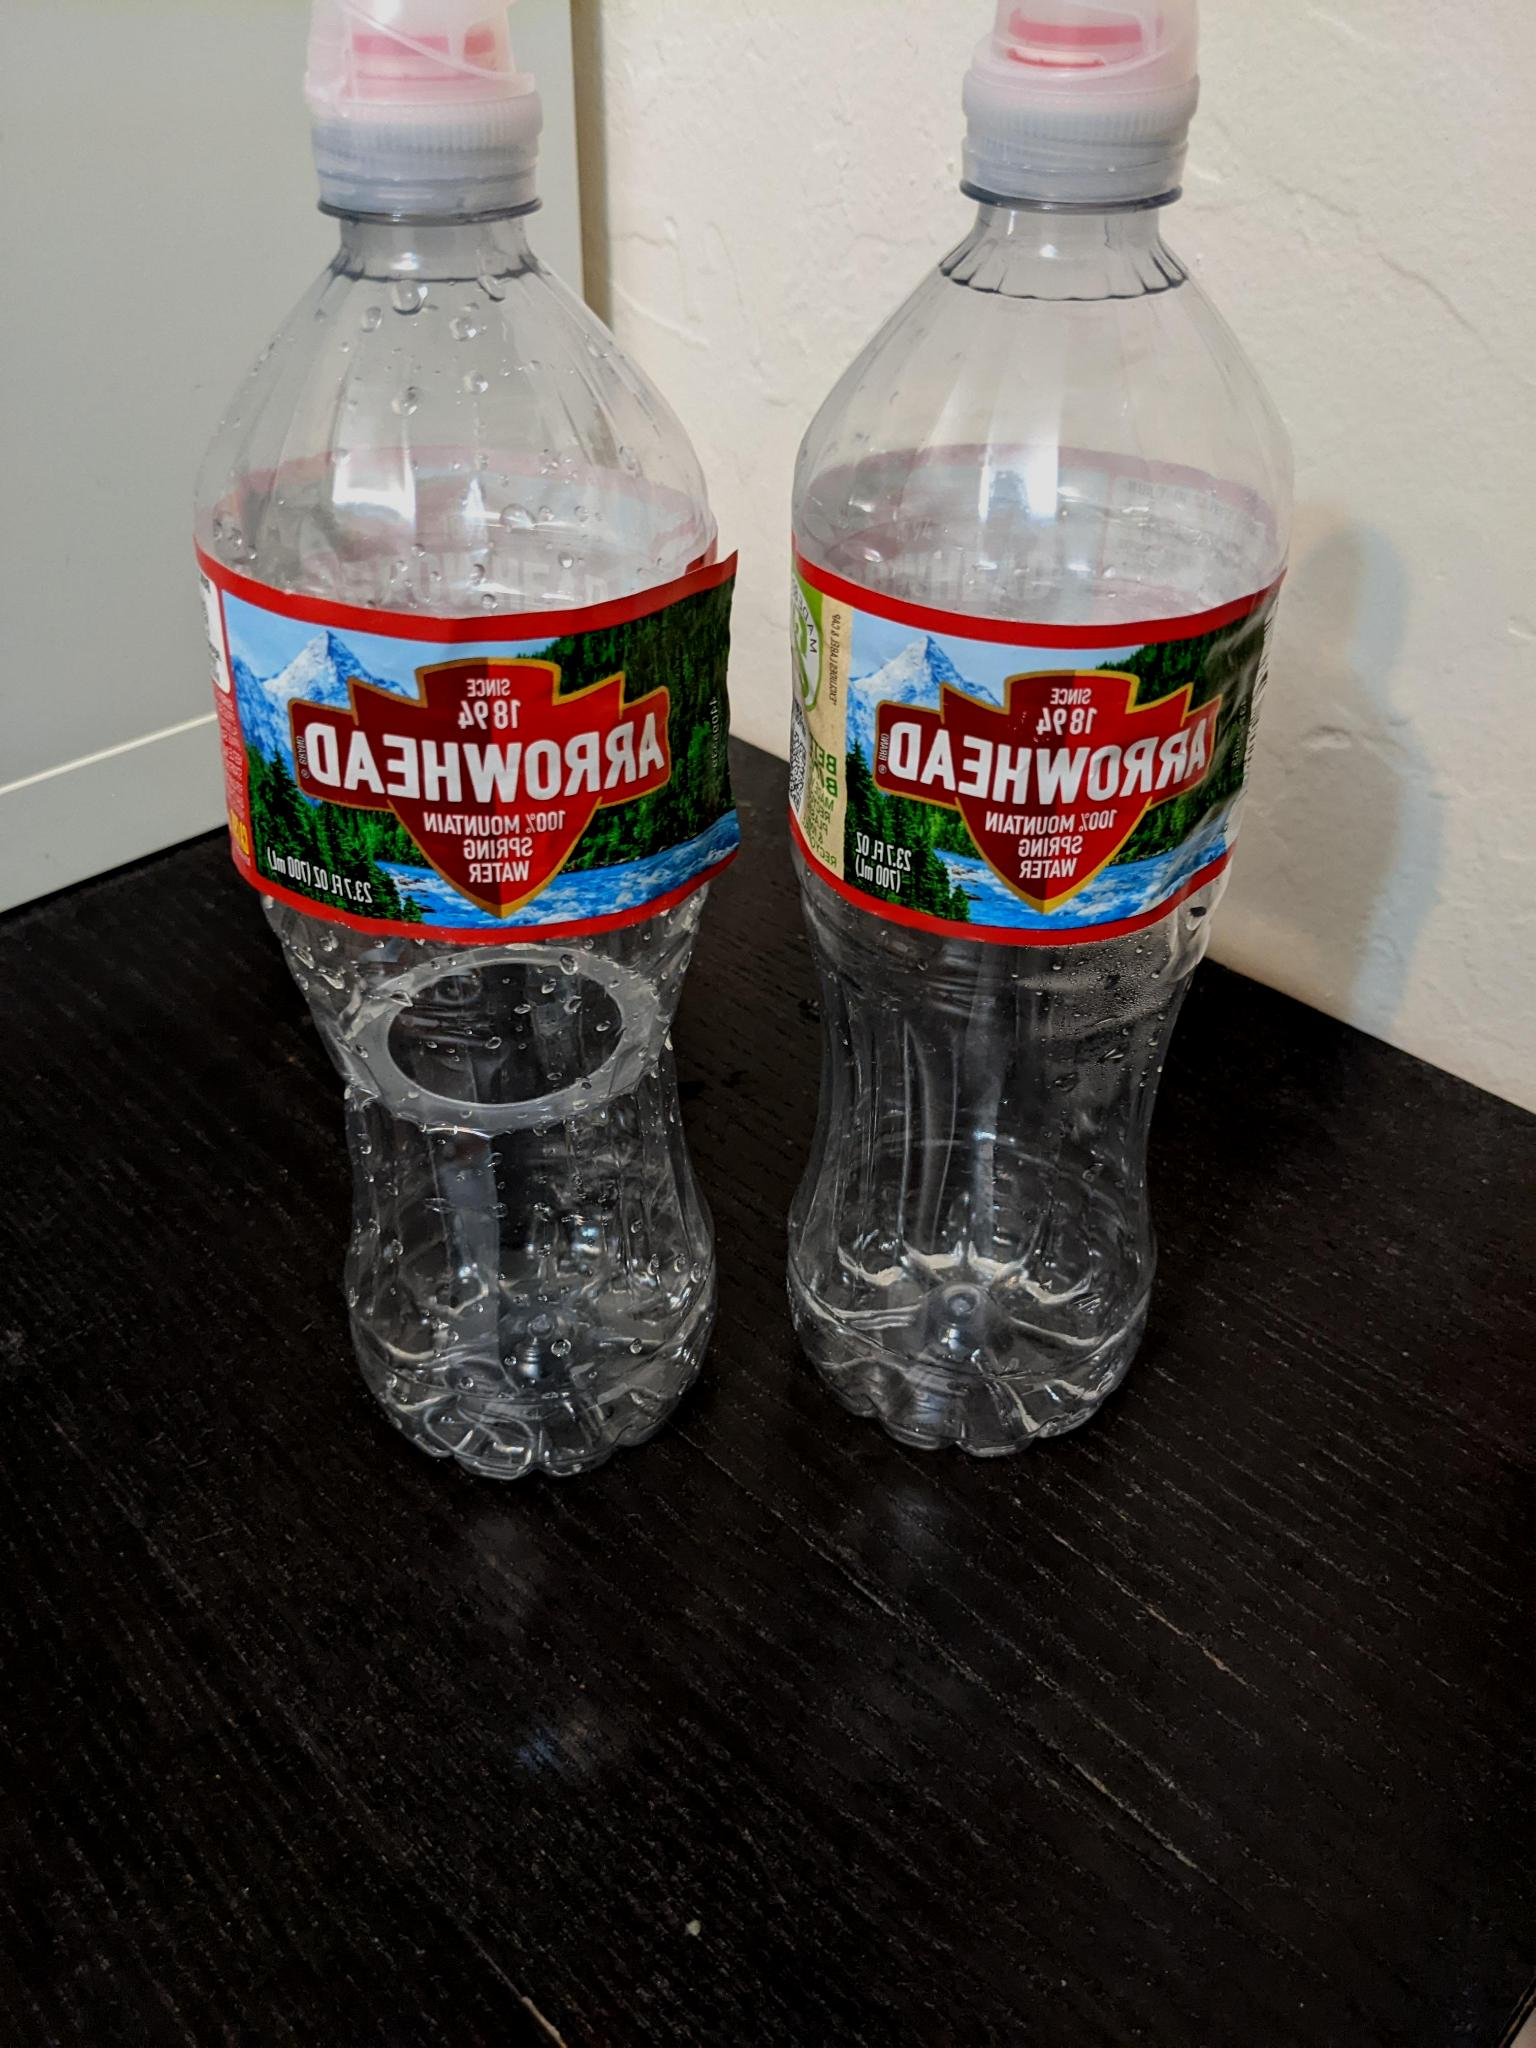bottle: (169, 2, 766, 1530), (739, 0, 1305, 1508)
